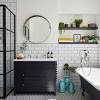bathub: (75, 64, 100, 100)
